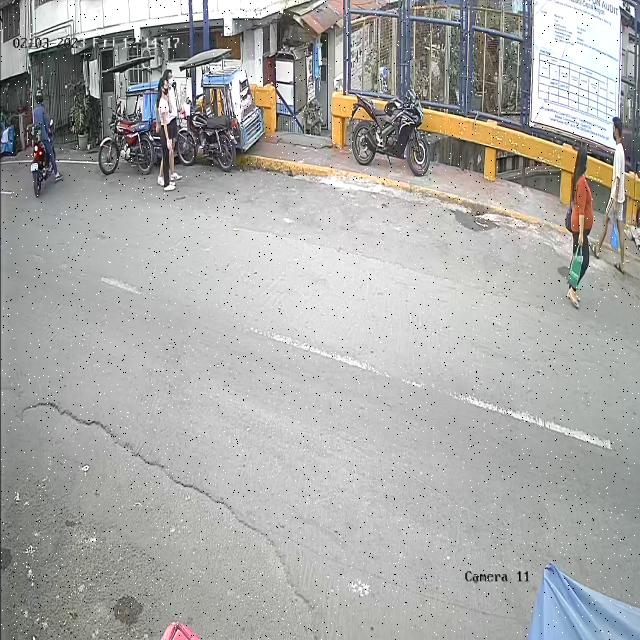human: (591, 116, 626, 275), (564, 146, 594, 311)
trash: (610, 218, 620, 252)
